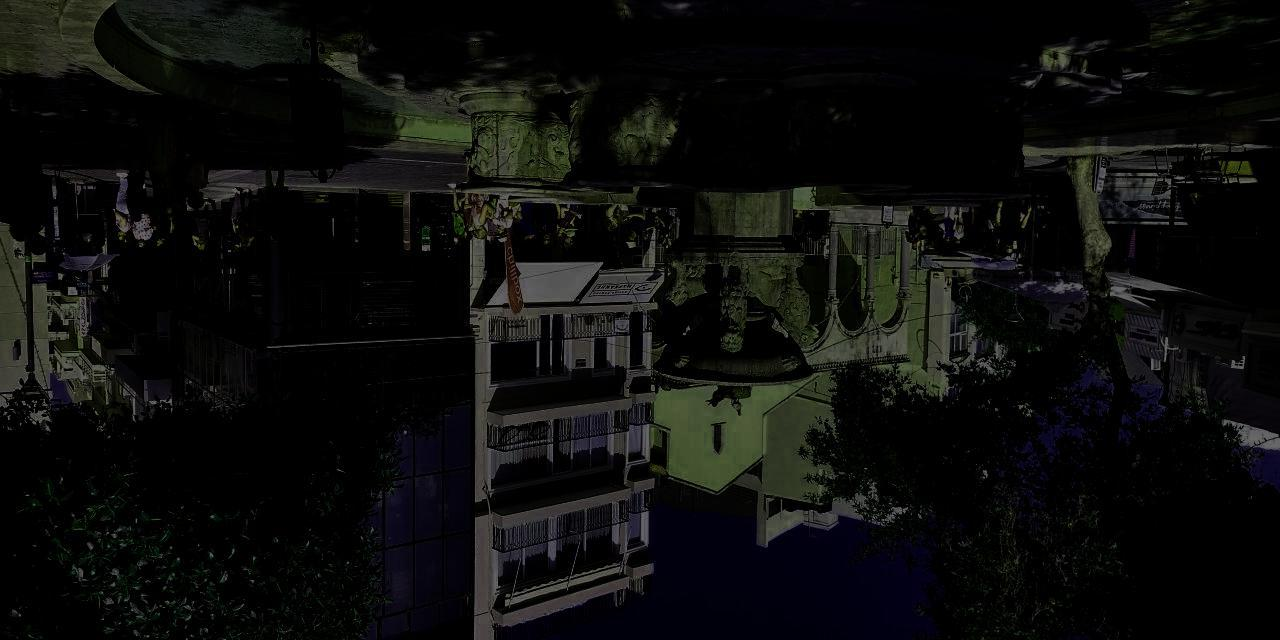Liontaria: (455, 77, 1024, 410)
